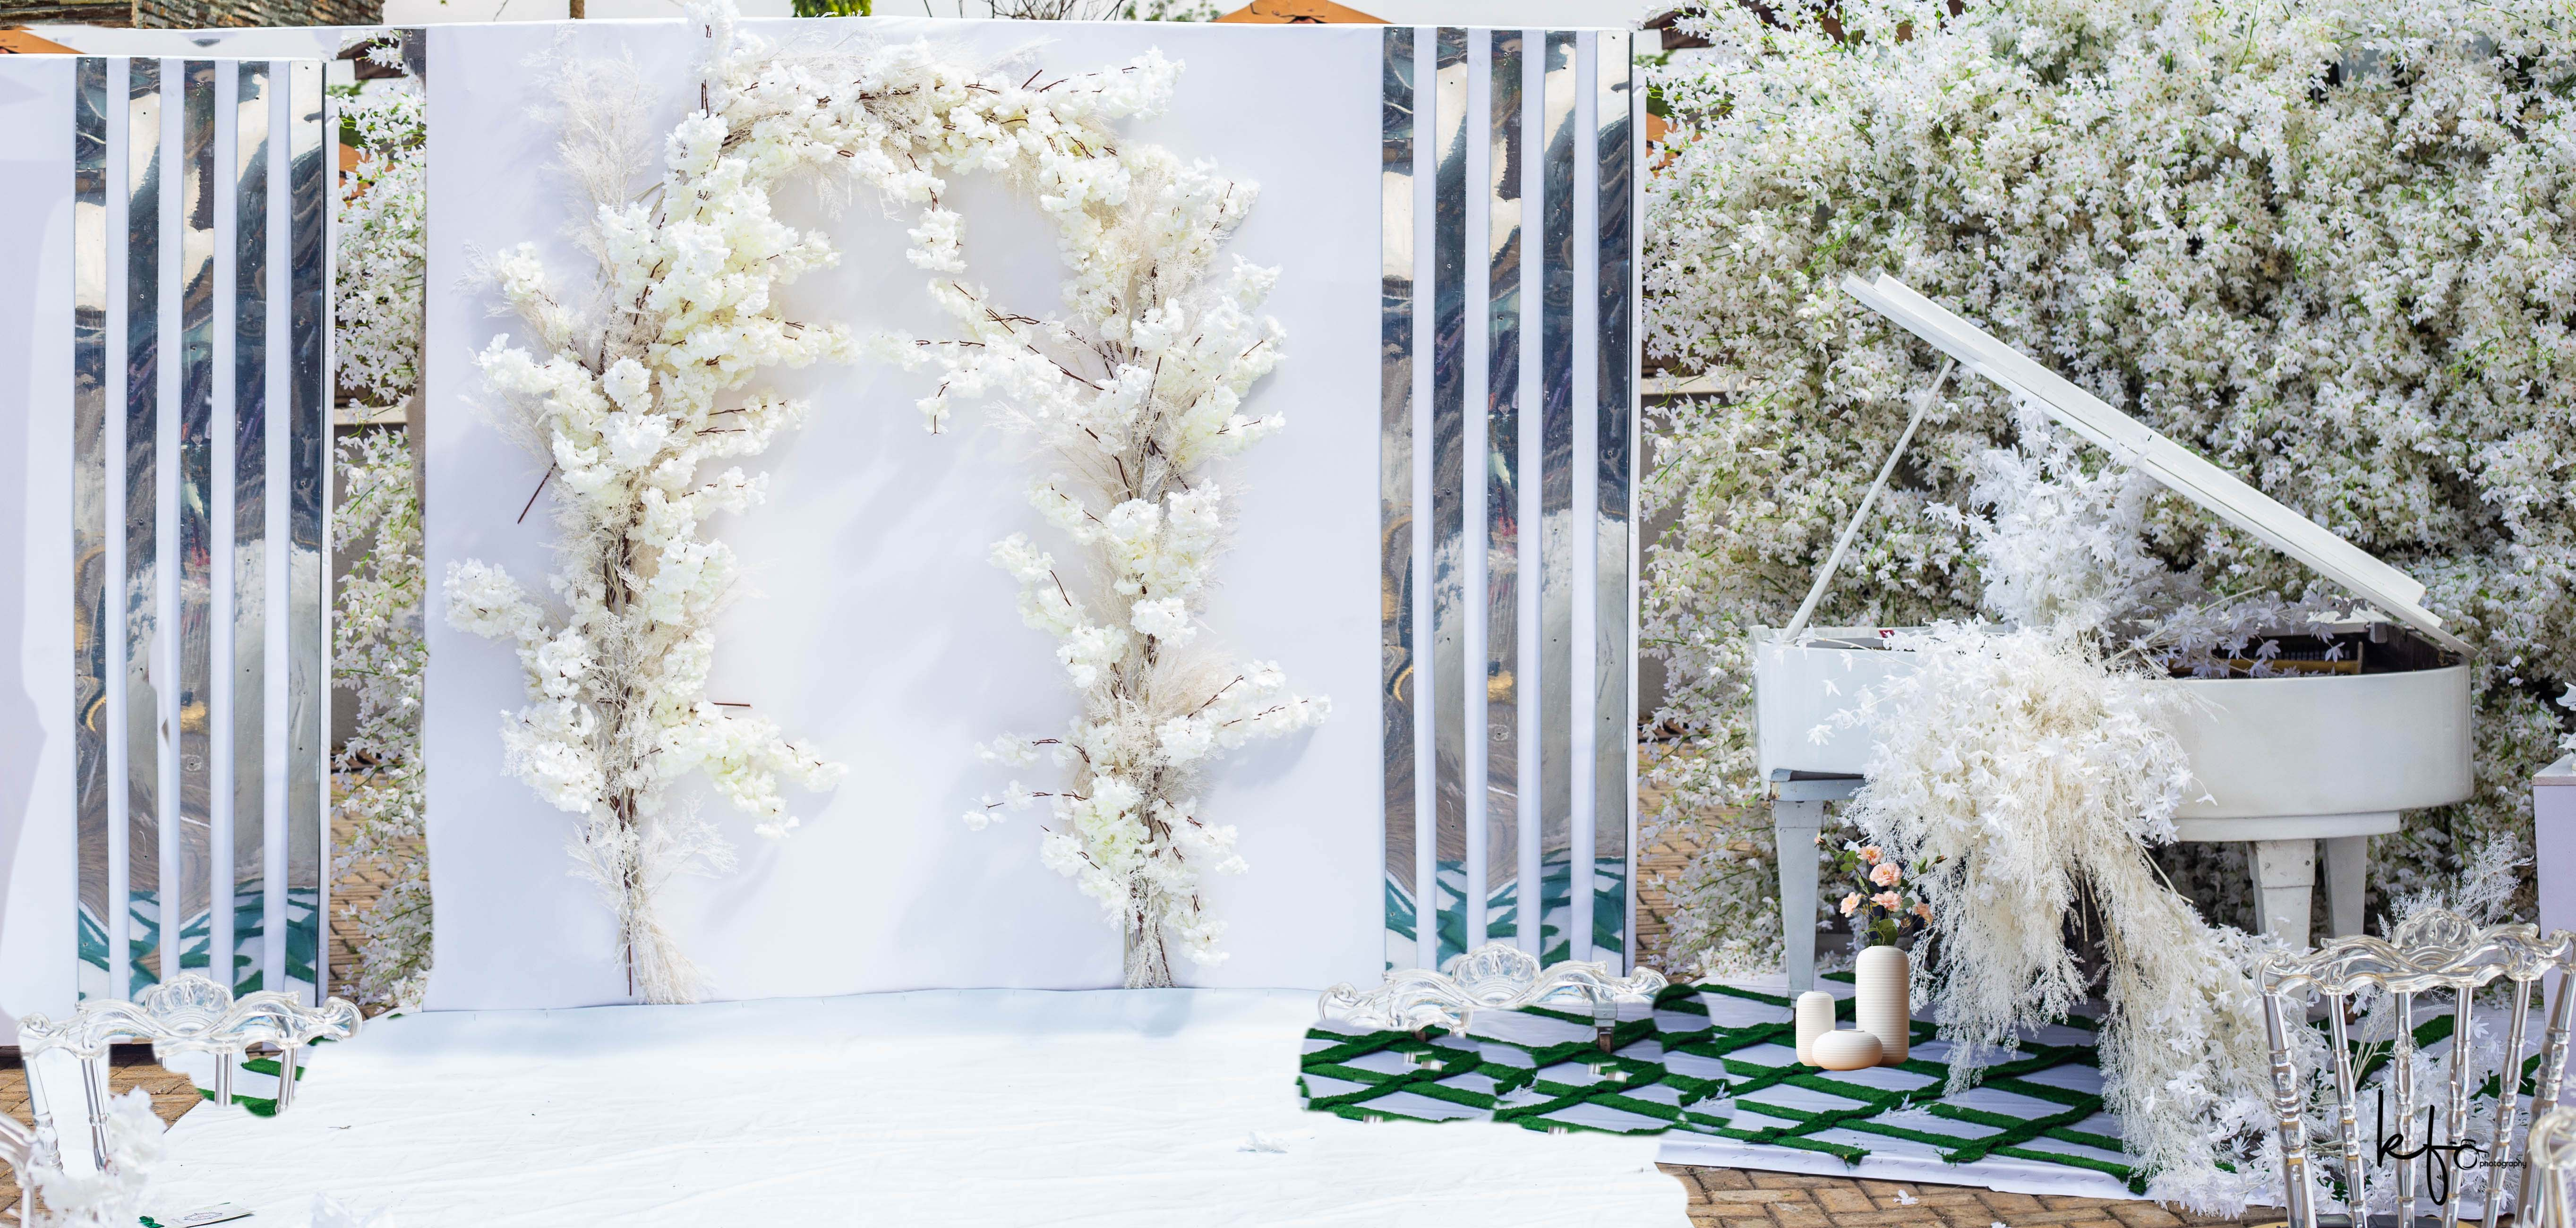copymove: (64, 43, 291, 1034)
removal: (1226, 1034, 1605, 1228)
spliced: (1789, 934, 1914, 1074)
